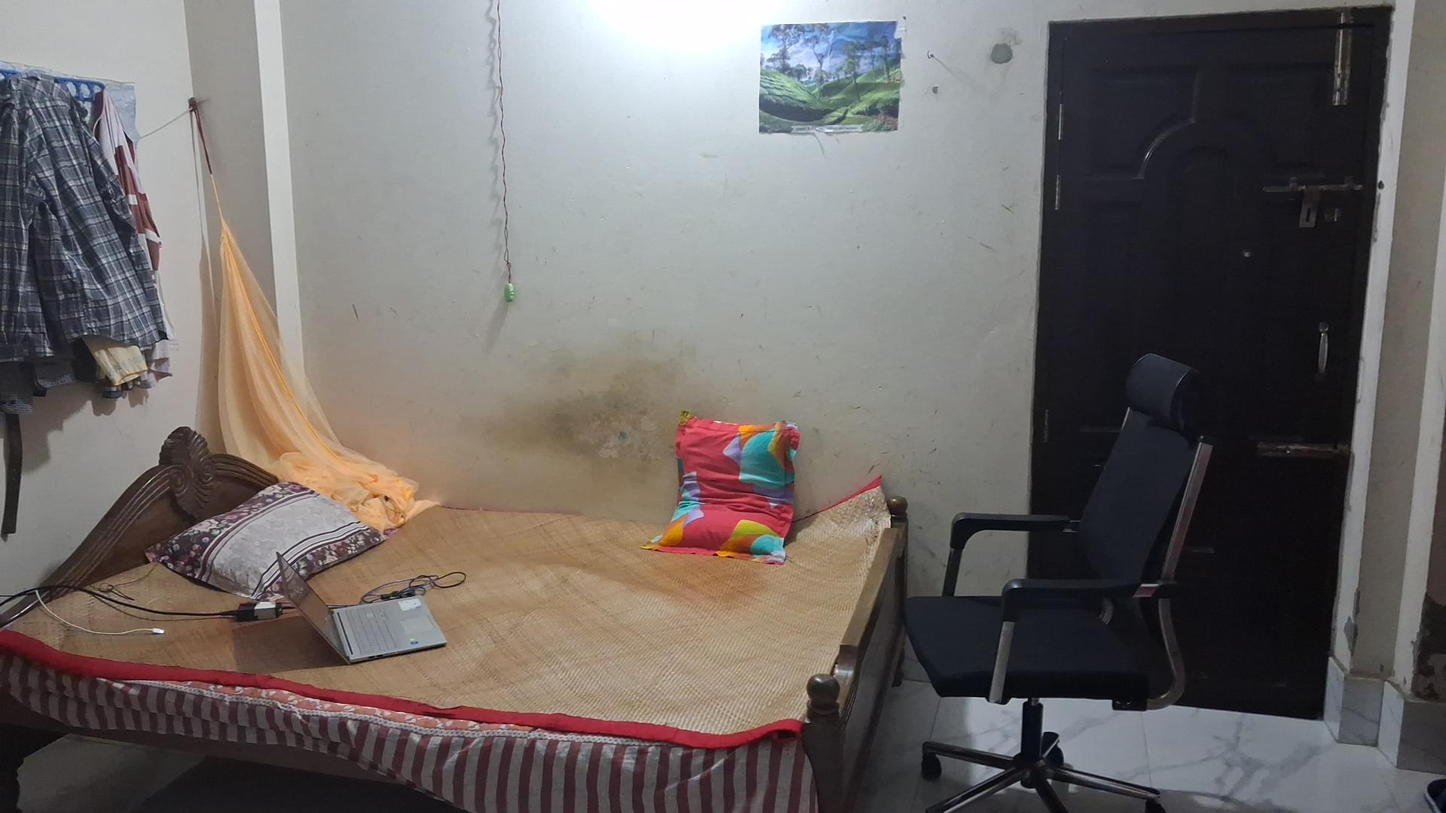Chair: (903, 352, 1217, 805)
Door: (1041, 67, 1369, 724)
Laptop: (285, 567, 446, 664)
Photo: (754, 15, 913, 138)
Pillow: (136, 490, 392, 602), (659, 403, 810, 570)
